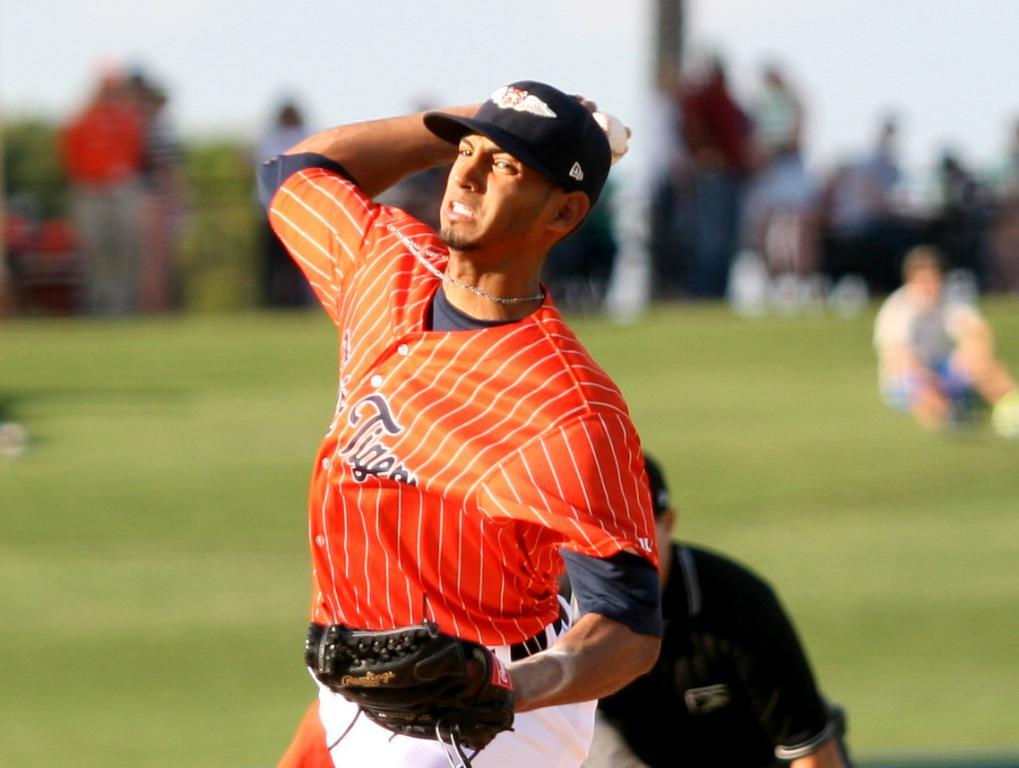Hat: (421, 77, 610, 211)
